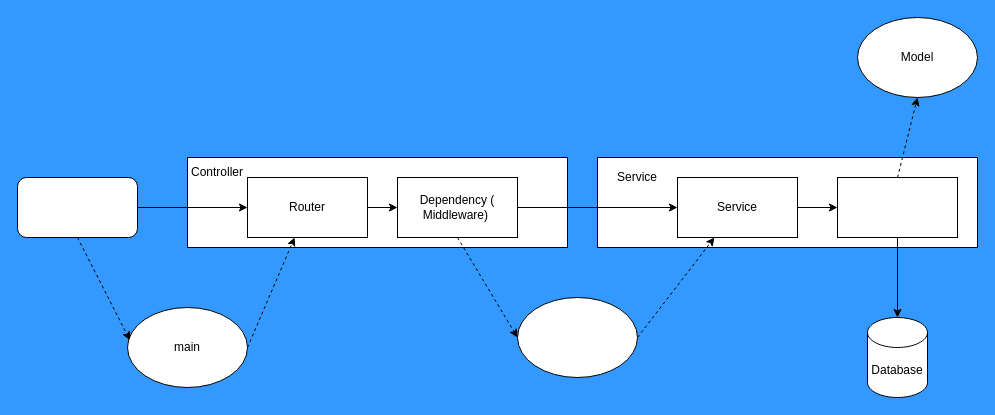
This 995x415 diagram has some shape labels left out. Each missing label, with the centre of its shape:
Browser: the point at 77,207
Repository: the point at 897,207
Schema (DTO): the point at 577,337
